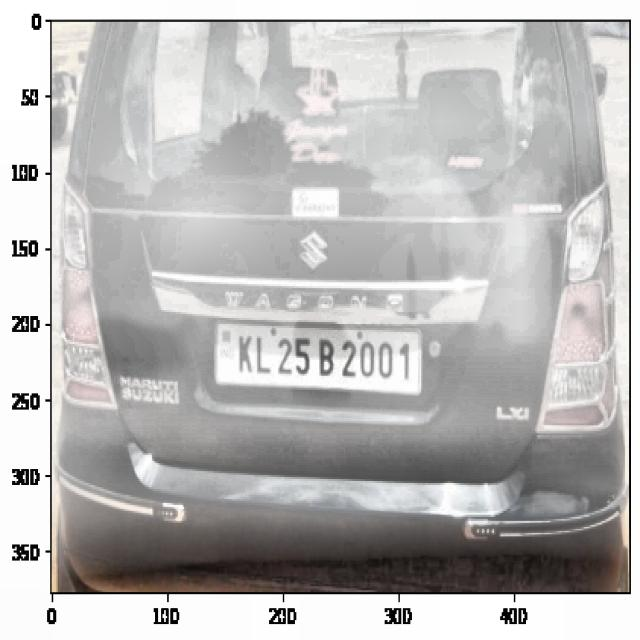license_plate: (220, 322, 419, 399)
